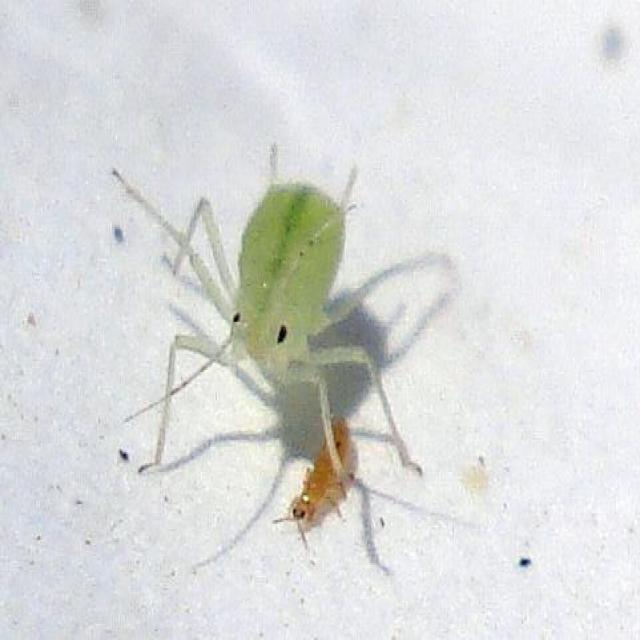aphid: (120, 132, 426, 501)
